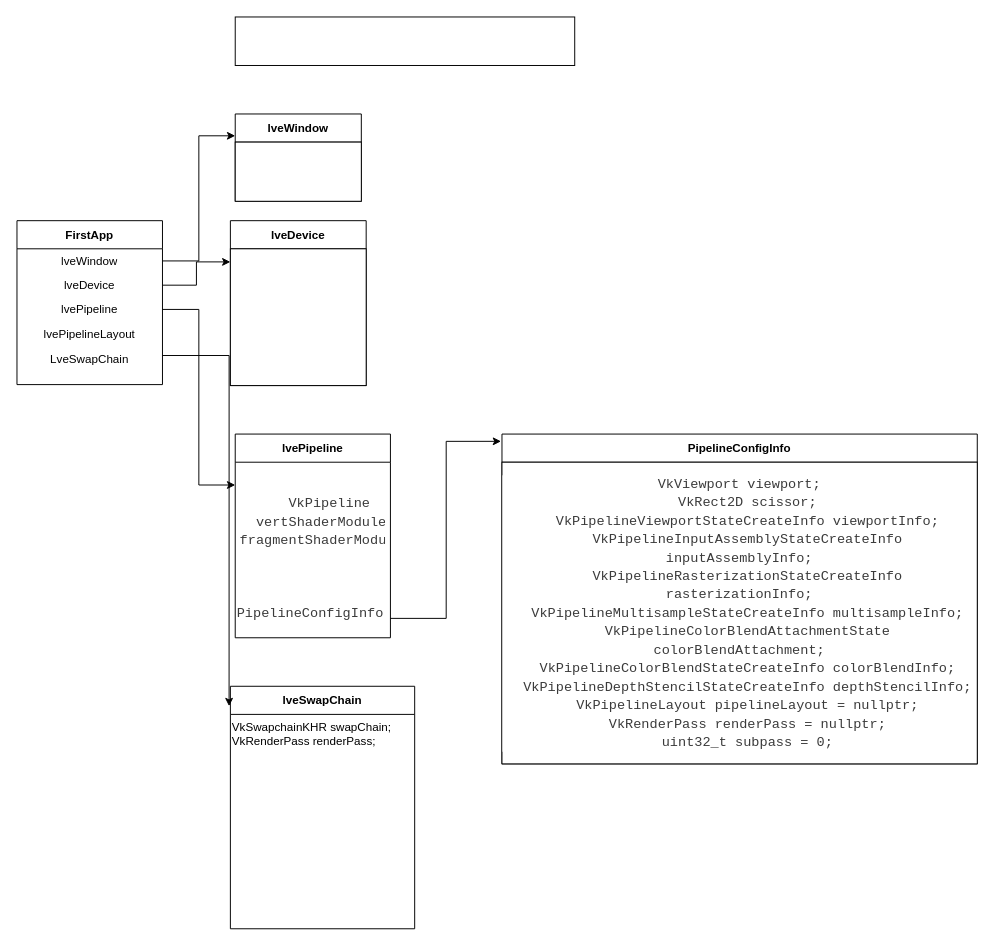
Image size: 994x946. Some labels were removed from this diagram. Each missing label, with the centre of its shape:
Draw Triangle: the point at 404,40
GLFWwindow: the point at 297,171
VkDevice VkPhysicalDevice VkInstance VkCommandPool: the point at 297,317
